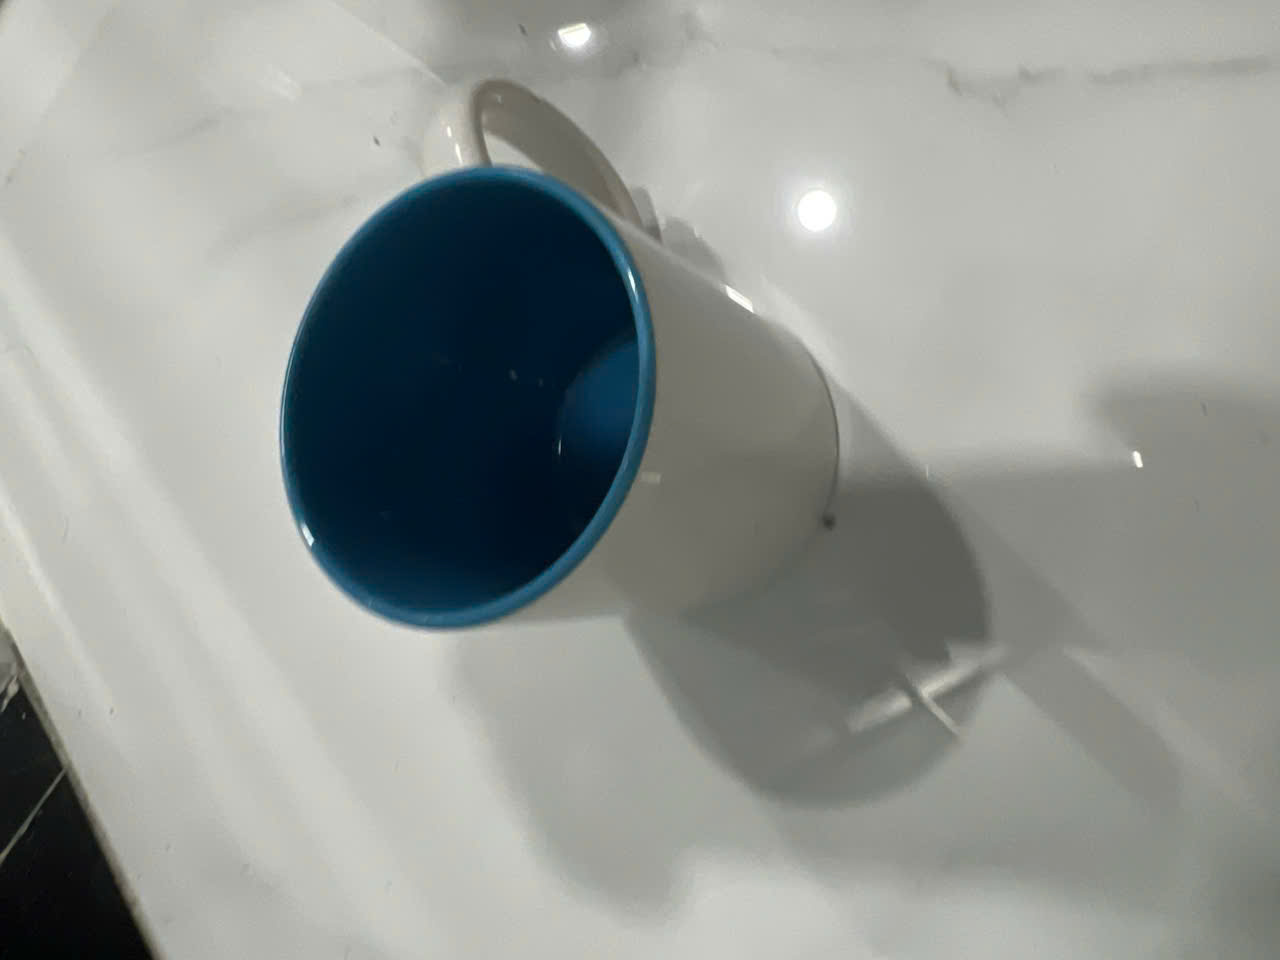ly coc: (279, 64, 859, 713)
